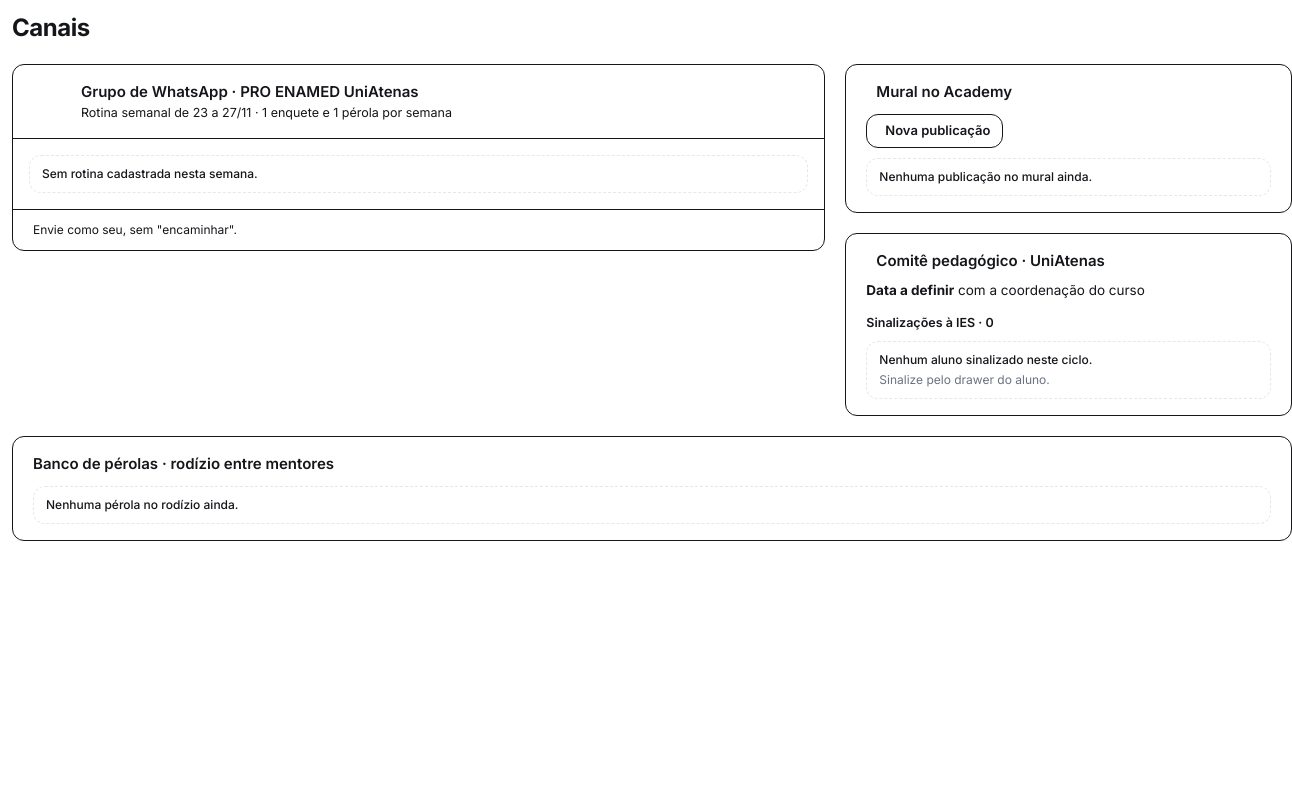
it: Canais · erro › erro da fonte ao publicar fica no composer e não fecha
The image size is (1292, 812).
Click the button "Nova publicação": {"x": 935, "y": 130} 866,114 -> 1003,148
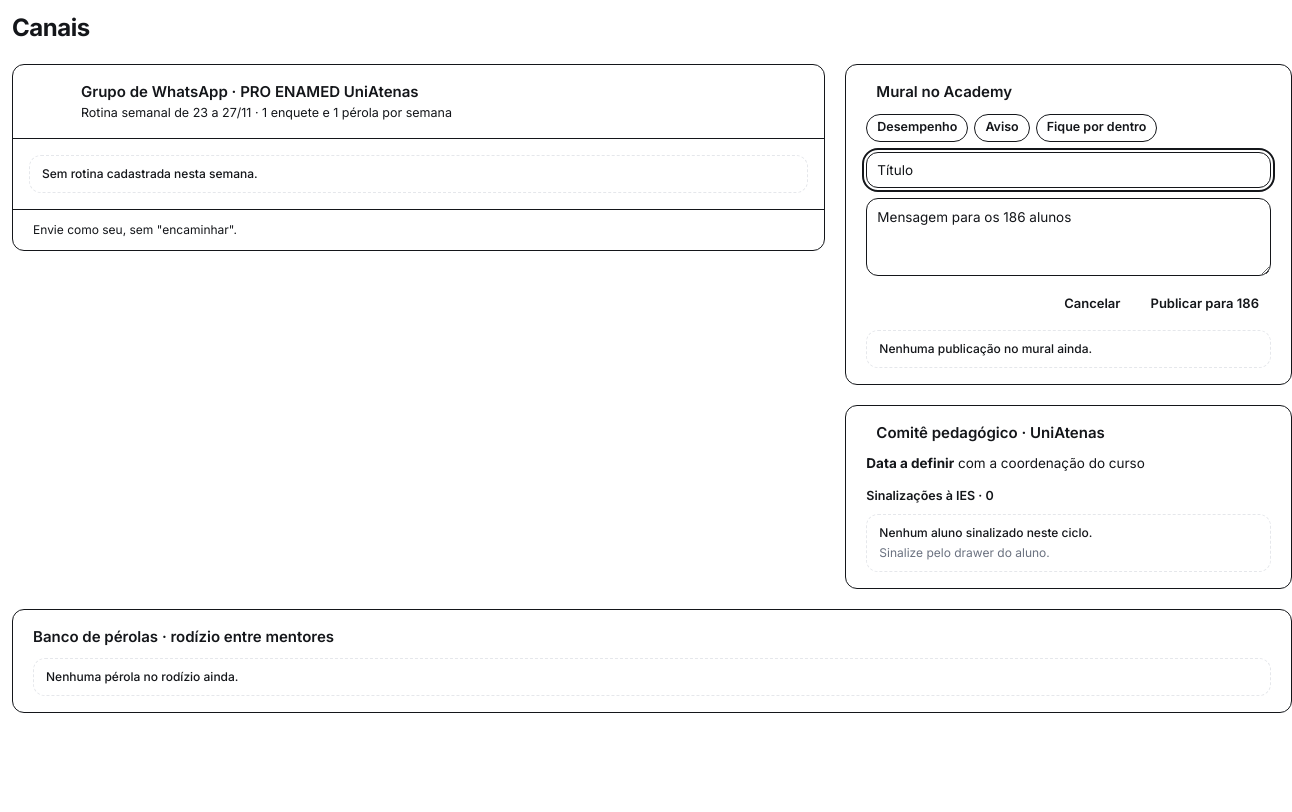
In the field labelled "Título": {"x": 1069, "y": 170} 866,152 -> 1271,188, type "T"
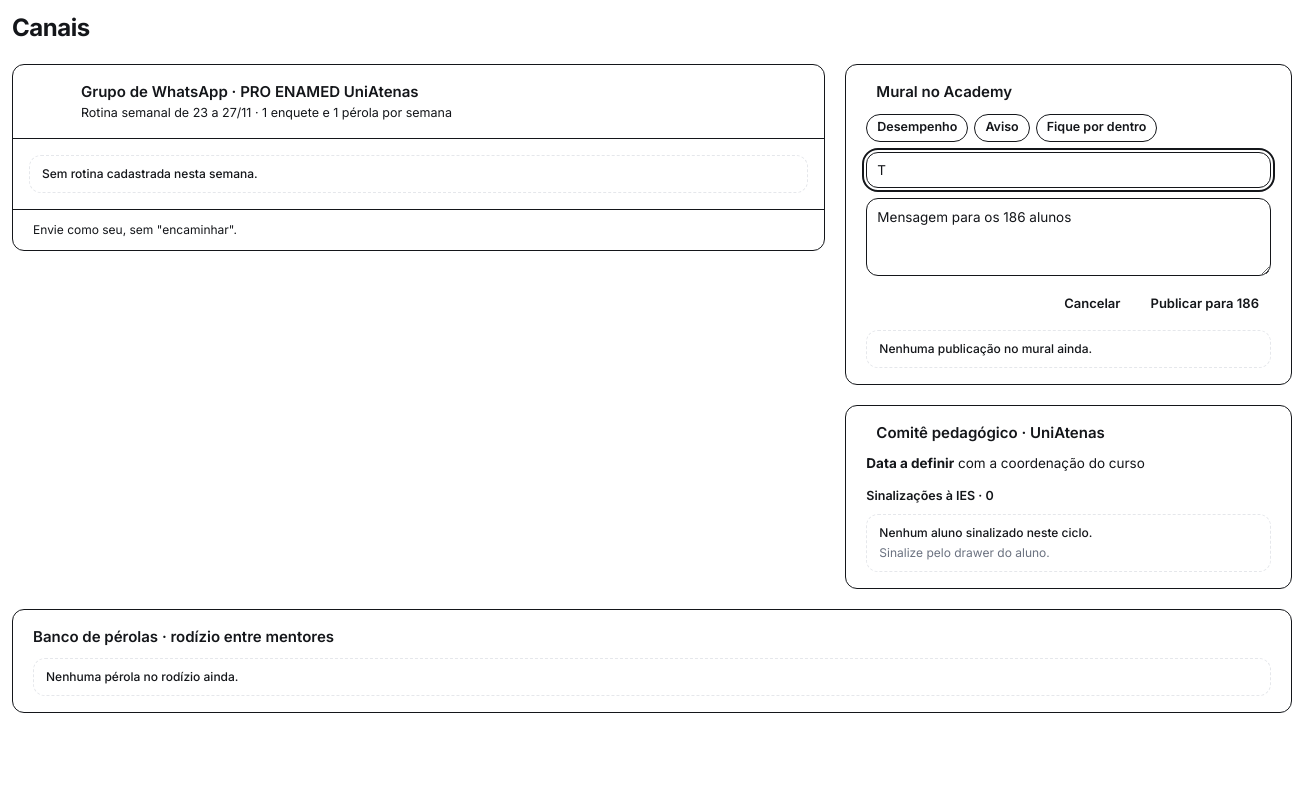
In the text box labelled "Mensagem": {"x": 1069, "y": 237} 866,198 -> 1271,276, type "M"
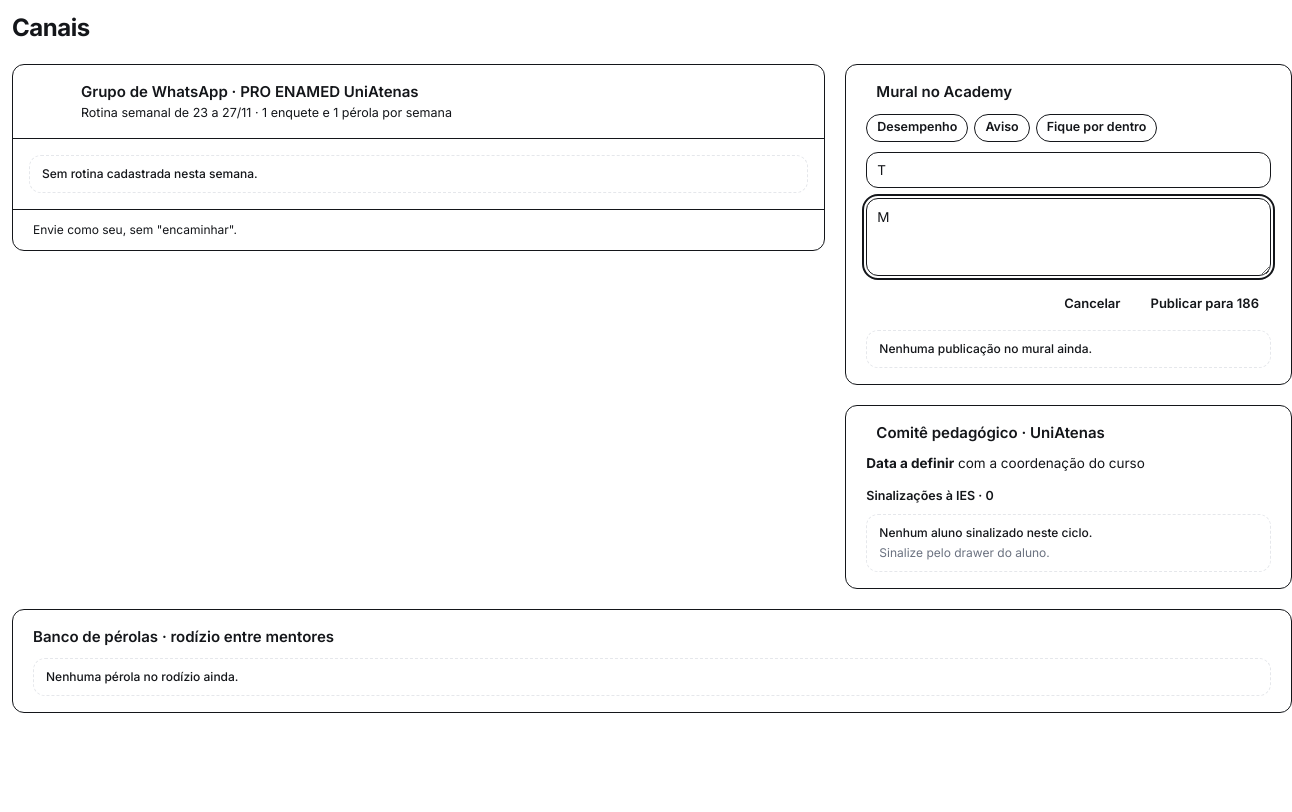
Click the button "Publicar para 186": {"x": 1205, "y": 303} 1138,286 -> 1271,320
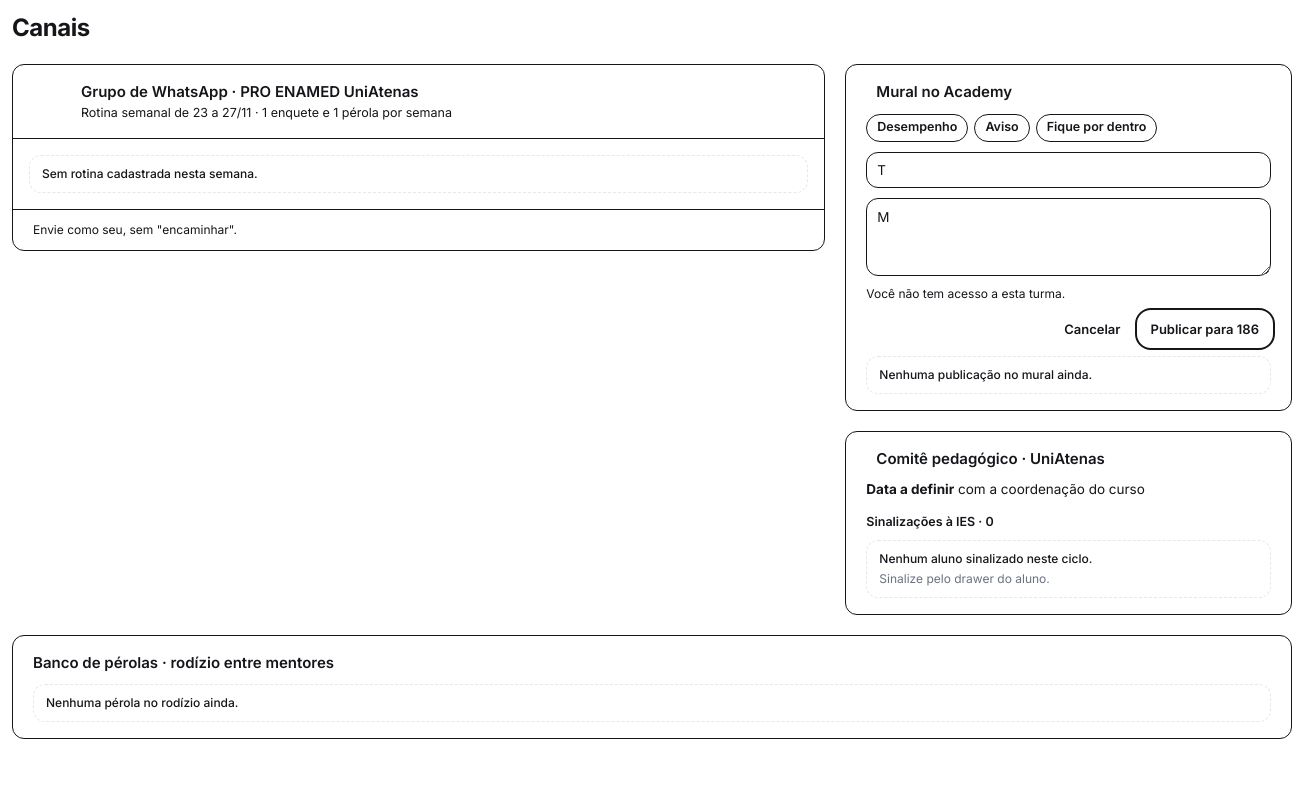
Expected: the message "Você não tem acesso a esta turma." is shown, 866,286 -> 1065,301
